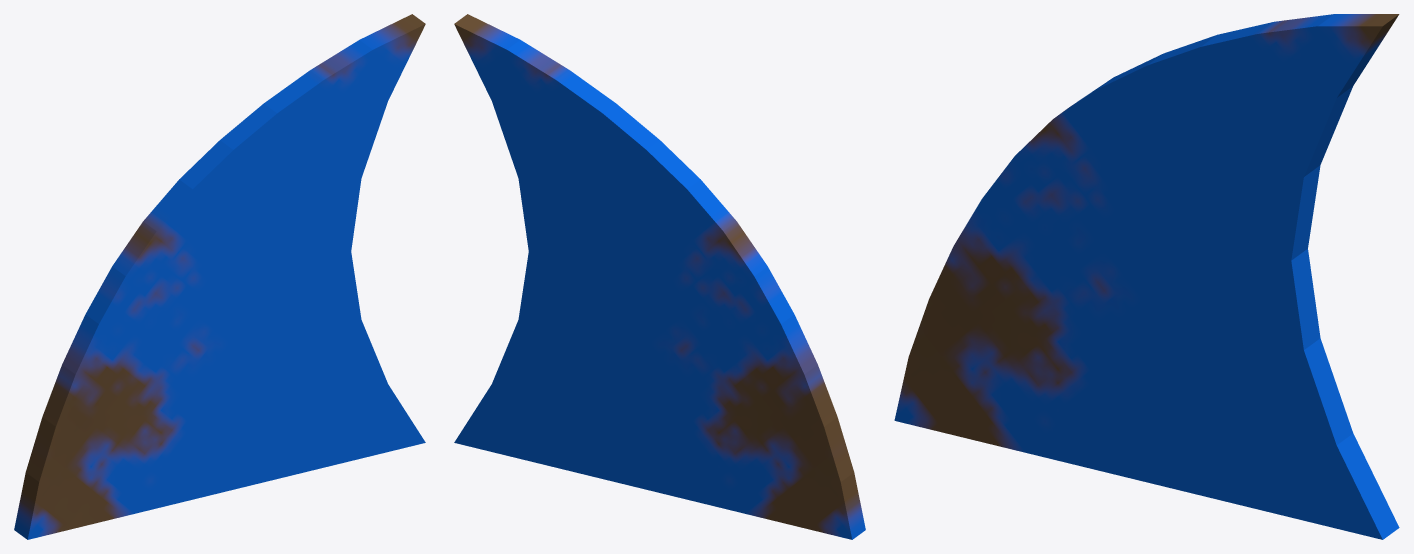
File: ola 1.fbx
3 views of the same model, side by side, from view 1: azimuth 30°, elevation 25°; view 2: azimuth 150°, elevation 25°; view 3: azimuth 330°, elevation 25° (orthographic). The views are drawn at different scales.
Visible parts, largest first — view 1: ola 1; view 2: ola 1; view 3: ola 1.
Boxes of the visible parts, <box> form: ola 1: <box>14,14,425,539</box>; ola 1: <box>454,14,865,539</box>; ola 1: <box>894,14,1399,539</box>.
Bounding box in the file's own units: 119 × 120 × 7.04.
Materials: 1 (1 with a texture image).
